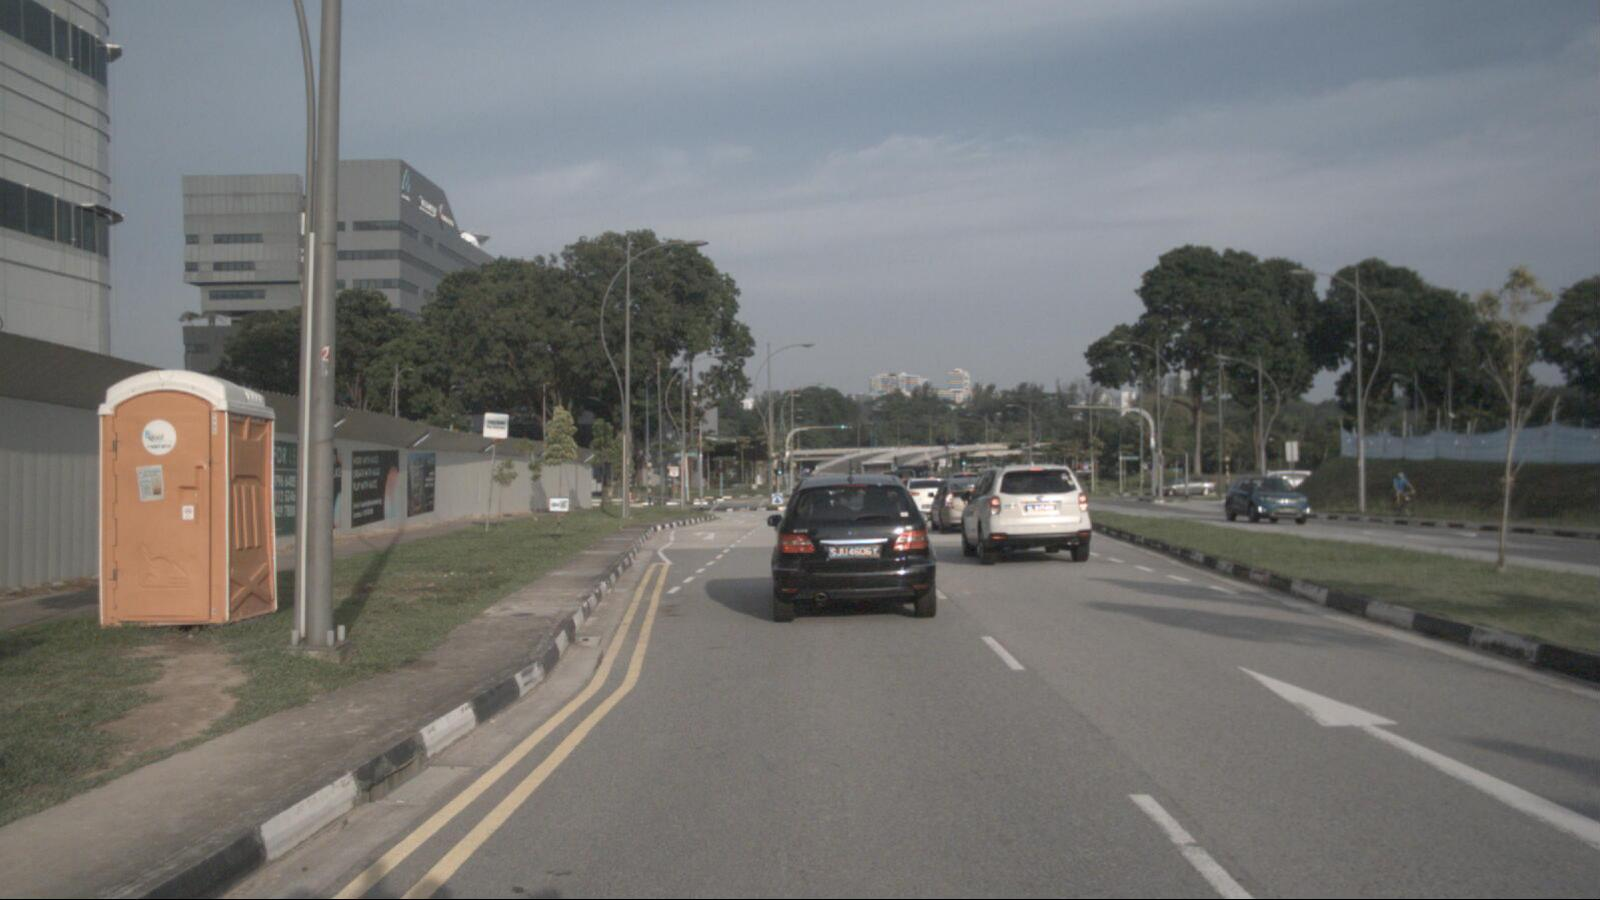vehicle.bicycle-cycle.with_rider: (1388, 470, 1416, 519)
